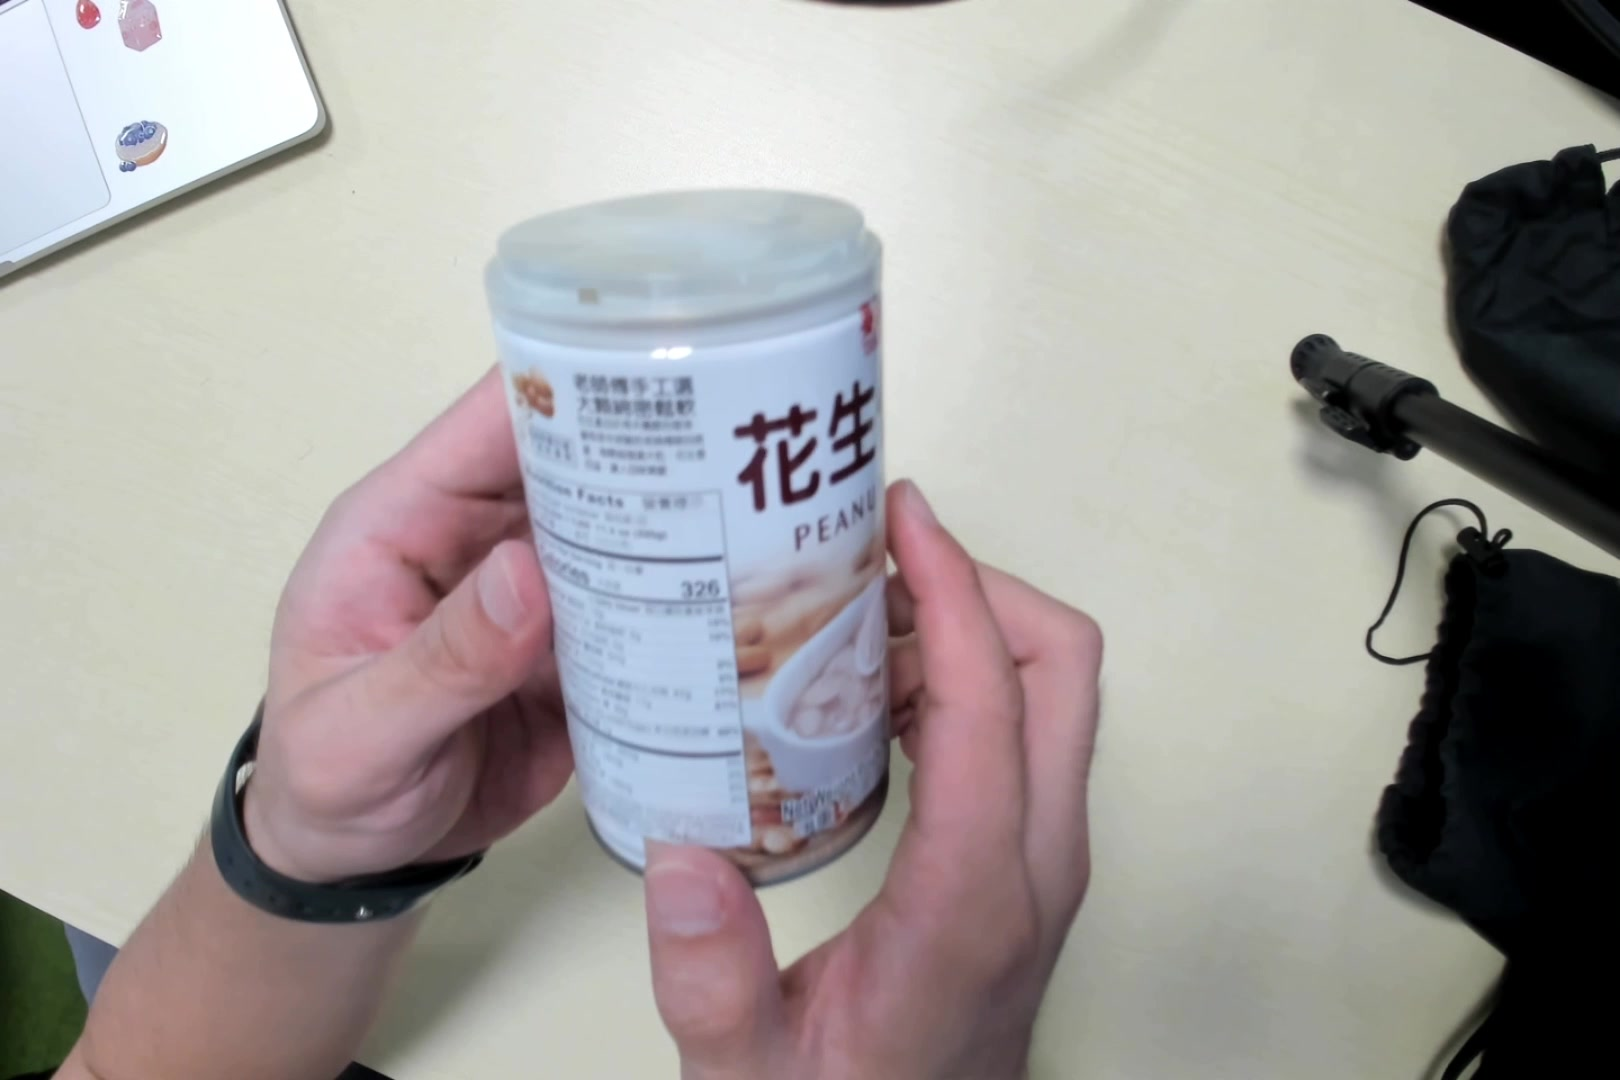InstantMeals_300-399g_NonHalal_NonHealthy: (492, 196, 914, 894)
